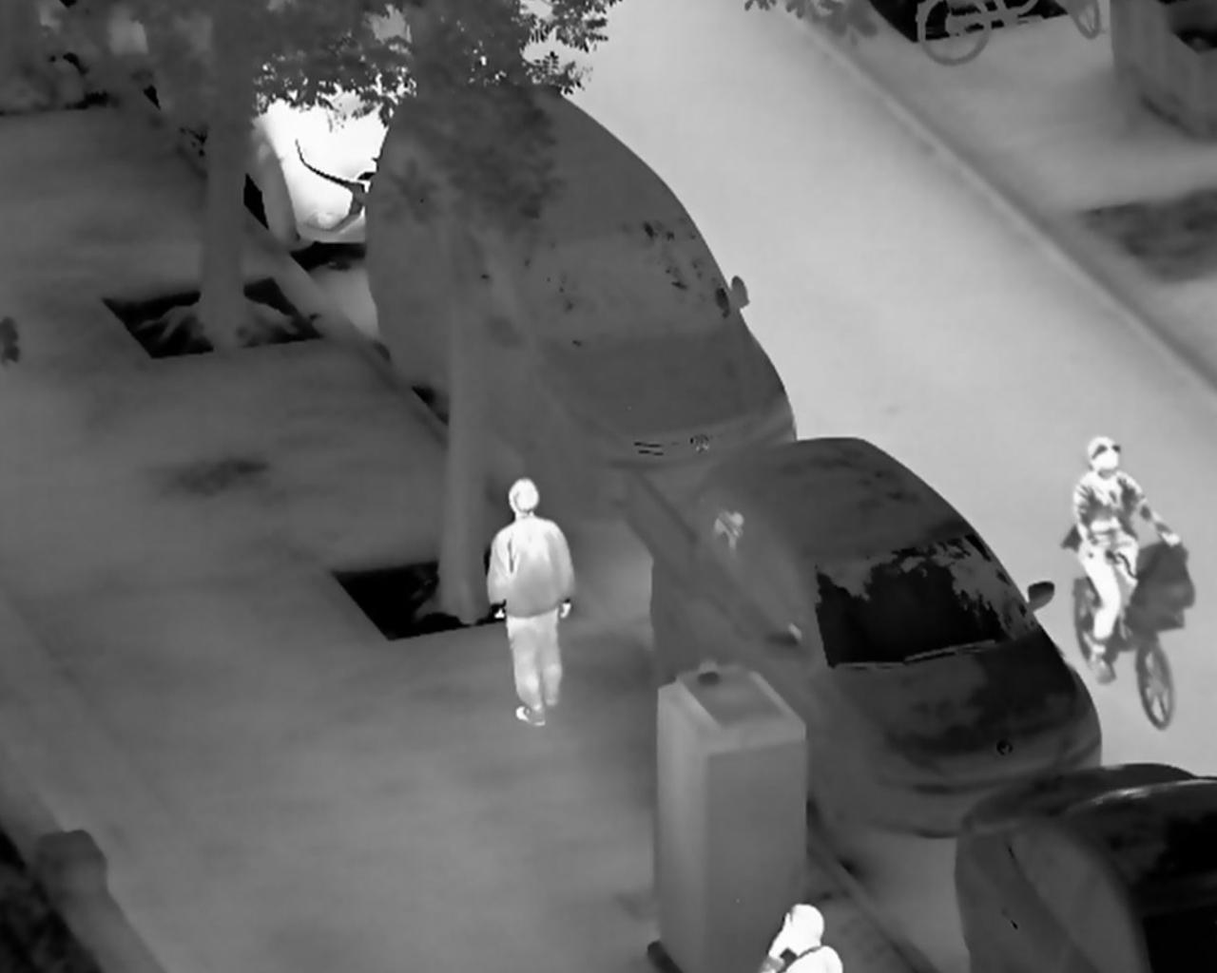person: (1063, 436, 1187, 690), (485, 475, 582, 732)
